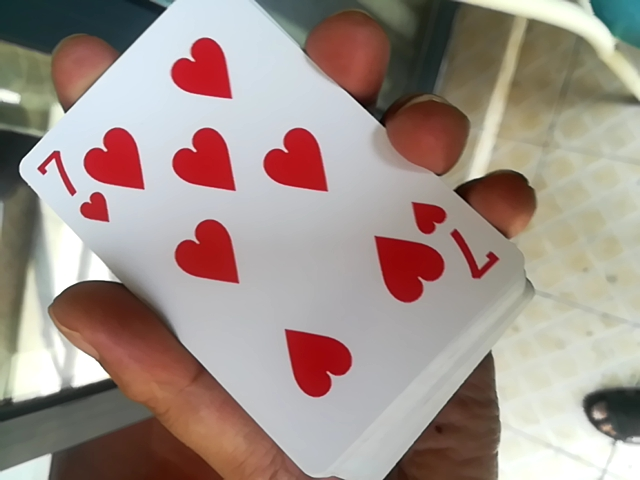hx 7: (55, 12, 496, 476)
